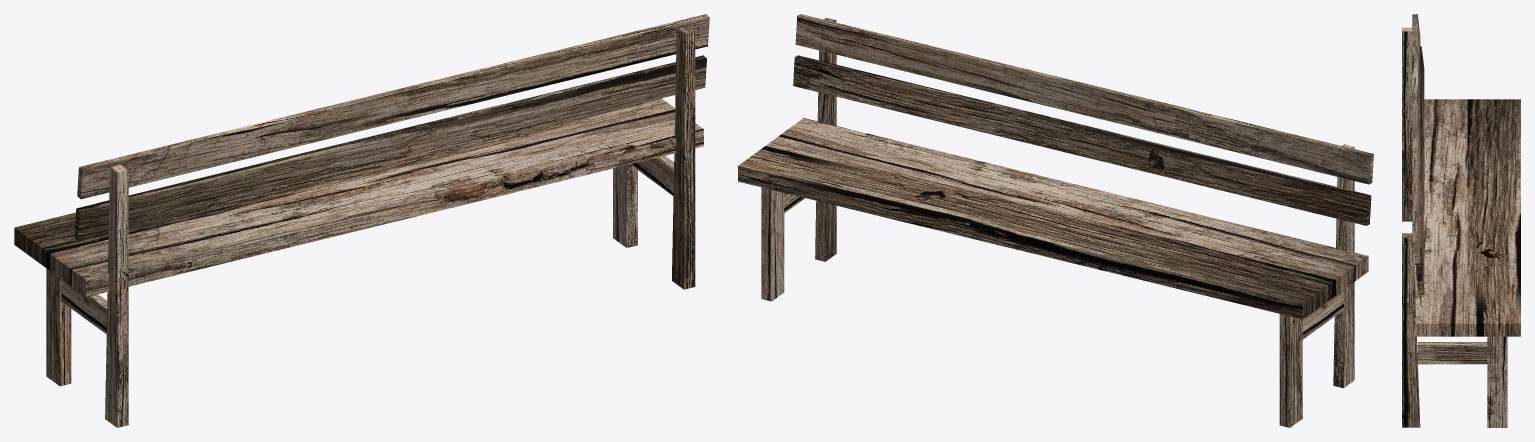
File: bench_LOD1.FBX
The picture shows the model from 3 angles, left to right: view 1: azimuth 30°, elevation 25°; view 2: azimuth 150°, elevation 25°; view 3: azimuth 270°, elevation 25°; orthographic projection. The views are drawn at different scales.
Parts seen in each view (by area): view 1: lawkaL1; view 2: lawkaL1; view 3: lawkaL1.
Part boxes in pixels (x1=…): lawkaL1: x1=14, y1=14, x2=709, y2=427; lawkaL1: x1=738, y1=14, x2=1373, y2=427; lawkaL1: x1=1402, y1=14, x2=1520, y2=427.
Size of the model in its own units: 4.33 by 1.72 by 0.9536.
Materials: 1 (1 with a texture image).
